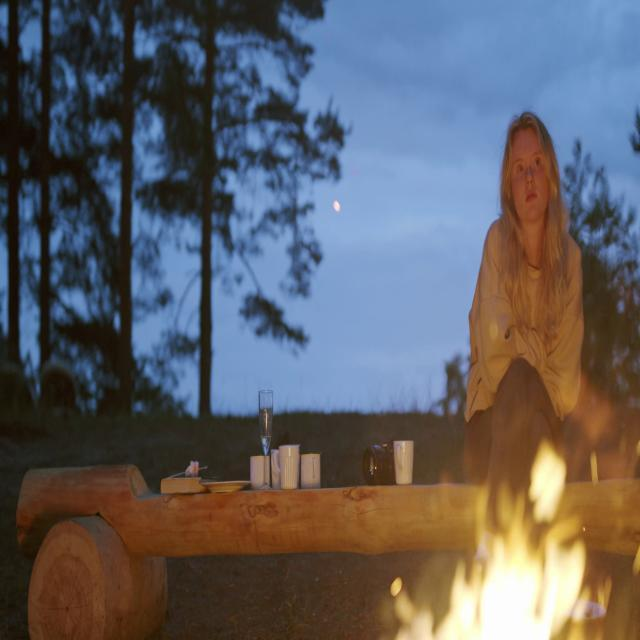Fire: (396, 438, 619, 640)
